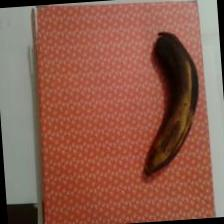Banana Rotten: (136, 18, 202, 188)
